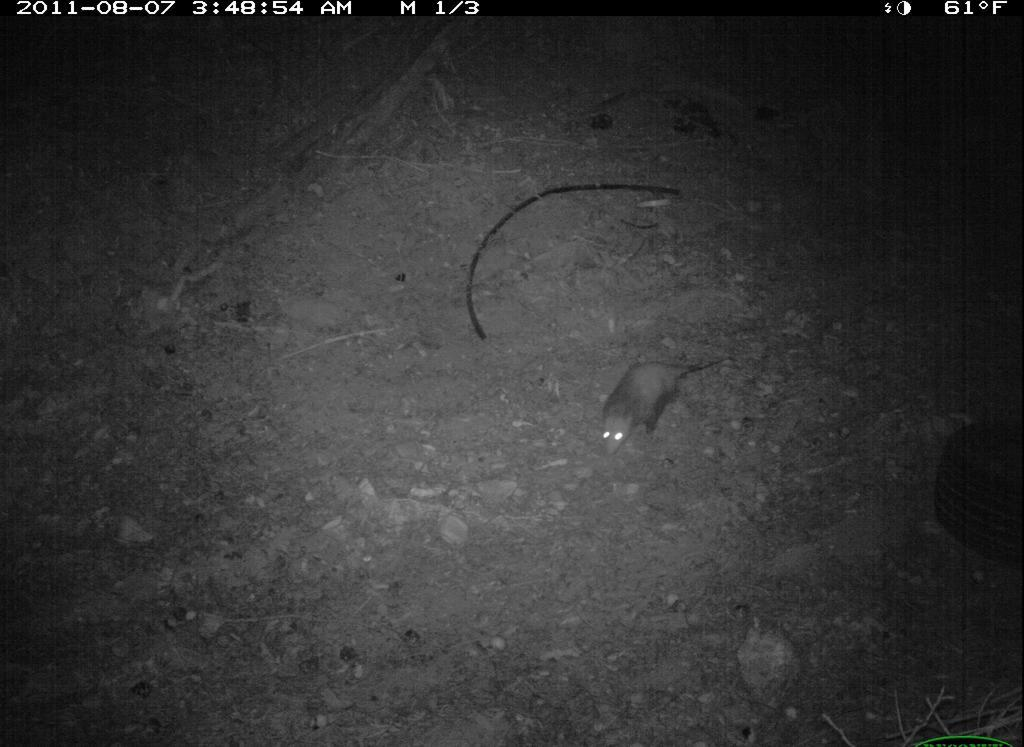opossum: (597, 349, 733, 465)
